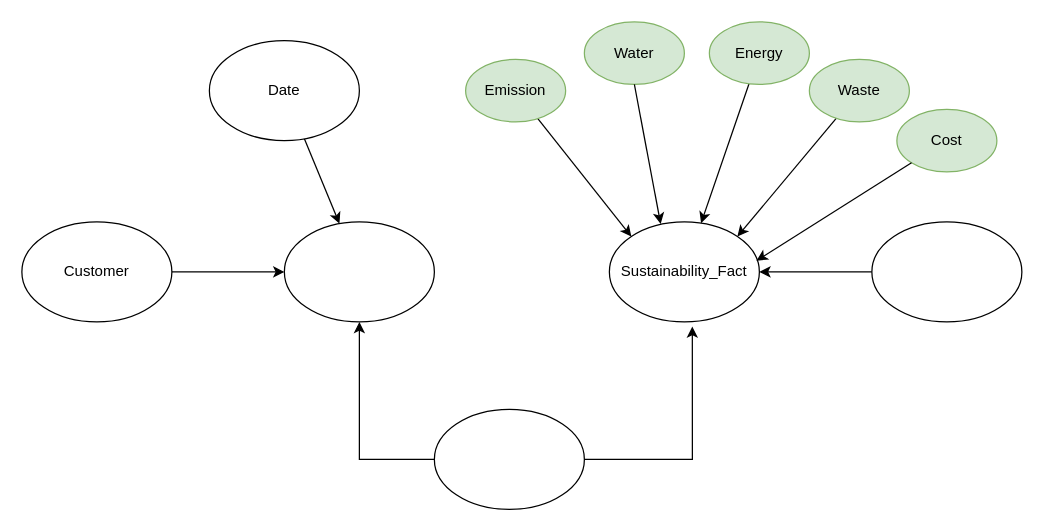
Image size: 1044x531. Some labels were removed from this diagram. The shapes that lost their labels are listed below. From the top down, each one's centre as x and y in pixels, then its label:
At point 358,271: "Sales_Fact".
At point 946,271: "Facility".
At point 508,458: "Product".
